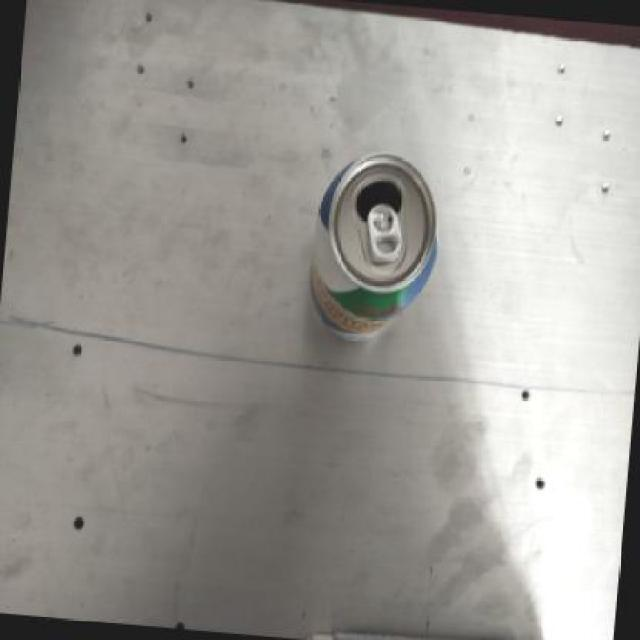recyclable: (287, 129, 458, 357)
